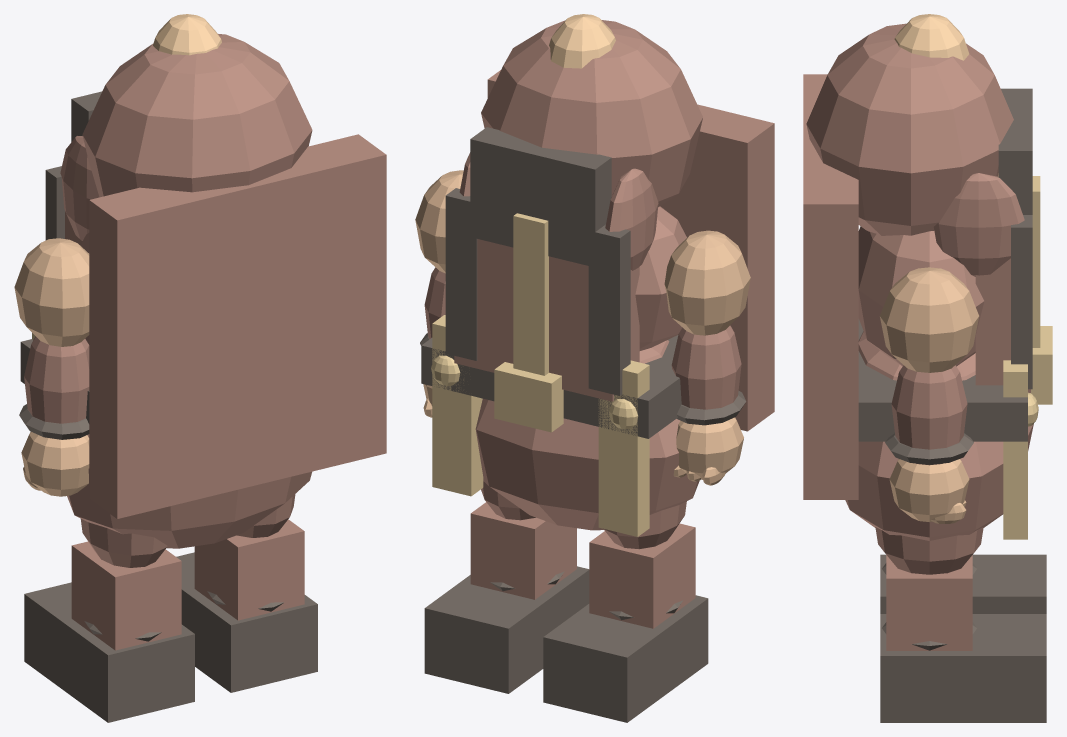
The model's file is ember_oracle.gltf.
3 renders of one model, left to right at view 1: azimuth 30°, elevation 25°; view 2: azimuth 150°, elevation 25°; view 3: azimuth 270°, elevation 25°, orthographic. The views are drawn at different scales.
Visible parts, largest first — view 1: Part7, Part10, Part22, Part34, Part21, Part33, Part6, Part17, Part18, Part19, Part15, Part20 (+5 smaller); view 2: Part10, Part7, Part22, Part6, Part11, Part34, Part3, Part21, Part33, Part17, Part45, Part41 (+17 smaller); view 3: Part10, Part7, Part34, Part29, Part6, Part33, Part2, Part16, Part4, Part30, Part22, Part31 (+10 smaller).
Boxes of the visible parts, x1,y1,x2,y2 form: Part7: [89, 134, 386, 518]; Part10: [82, 34, 312, 197]; Part22: [24, 582, 194, 722]; Part34: [176, 552, 317, 692]; Part21: [71, 541, 181, 650]; Part33: [194, 519, 304, 620]; Part6: [67, 434, 311, 548]; Part17: [14, 238, 89, 346]; Part18: [24, 336, 89, 423]; Part19: [21, 431, 89, 496]; Part15: [60, 136, 99, 240]; Part20: [80, 519, 167, 567]; Part10: [481, 20, 702, 207]; Part7: [487, 70, 774, 431]; Part22: [543, 595, 708, 722]; Part6: [475, 398, 699, 530]; Part11: [470, 127, 611, 267]; Part34: [424, 566, 589, 693]; Part3: [454, 239, 639, 401]; Part21: [589, 523, 695, 628]; Part33: [470, 502, 576, 599]; Part17: [664, 230, 750, 335]; Part45: [598, 360, 649, 536]; Part41: [588, 224, 630, 395]; Part10: [806, 23, 1013, 235]; Part7: [803, 74, 858, 499]; Part34: [880, 614, 1046, 722]; Part29: [880, 267, 979, 372]; Part6: [845, 424, 1033, 540]; Part33: [886, 555, 972, 650]; Part2: [858, 226, 984, 366]; Part16: [933, 173, 1024, 276]; Part4: [858, 319, 1027, 441]; Part30: [891, 365, 967, 465]; Part22: [880, 554, 1046, 613]; Part31: [889, 459, 969, 521].
Bounding box in the file's own units: 0.6175 × 1.18 × 0.405.
